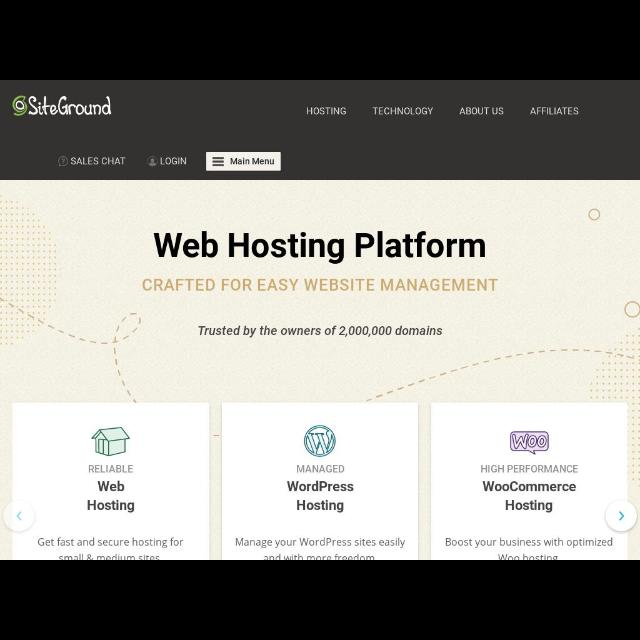button: (606, 500, 638, 532), (8, 502, 34, 532)
icon: (146, 156, 158, 167), (58, 156, 68, 168), (212, 158, 224, 166), (16, 512, 22, 520), (620, 511, 624, 522)
image: (12, 94, 112, 116), (92, 428, 130, 456), (304, 425, 336, 457), (510, 431, 550, 455)
text: (152, 231, 486, 265), (142, 279, 498, 291), (236, 538, 404, 560), (446, 538, 612, 560), (38, 537, 184, 559), (482, 481, 576, 513), (199, 327, 443, 338), (286, 481, 354, 513), (88, 481, 134, 513), (481, 465, 579, 473), (372, 107, 433, 115), (70, 158, 126, 165), (296, 465, 344, 473), (89, 465, 133, 473), (308, 107, 347, 115), (230, 158, 274, 165), (530, 108, 578, 114), (460, 108, 504, 114), (160, 158, 186, 165)
textbutton: (207, 152, 281, 170)
toolbar: (1, 81, 639, 129)
